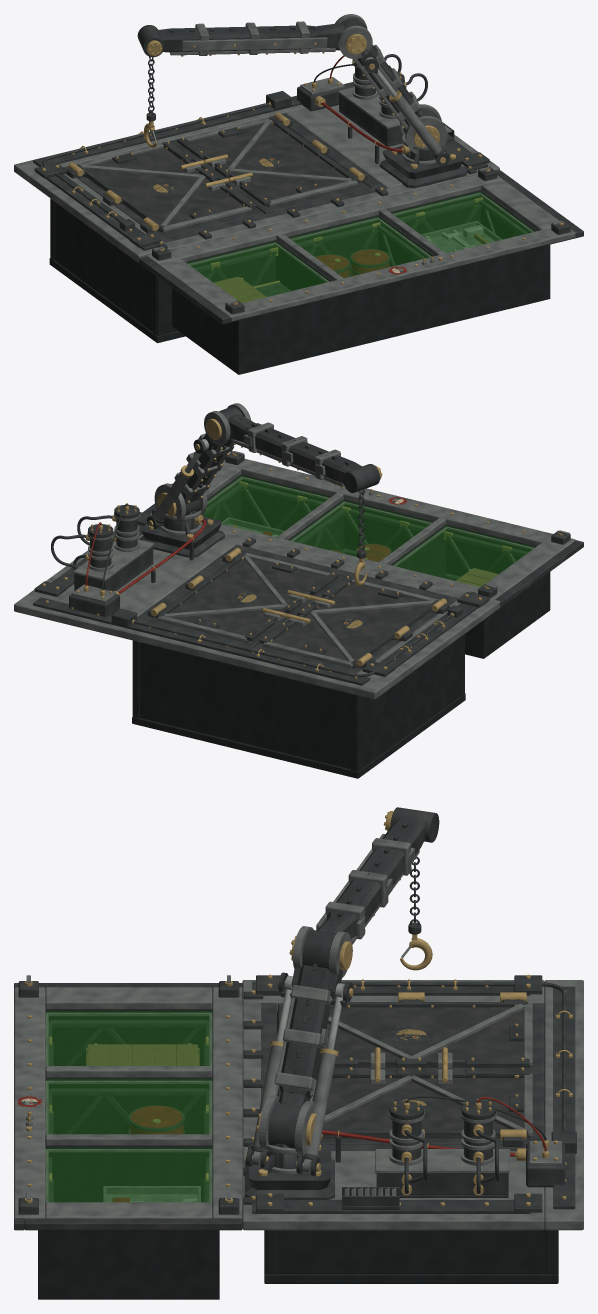
File: advanced-space-cargo-v01.glb
The picture shows the model from 3 angles, top to bottom: view 1: azimuth 30°, elevation 25°; view 2: azimuth 150°, elevation 25°; view 3: azimuth 270°, elevation 25°; orthographic projection. The views are drawn at different scales.
Parts seen in each view (by area): view 1: Cargo | front opaque well baffle, Advanced | cargo shaft left load wall, Cargo | rear grade-bearing deck rail, Cargo | front grade-bearing deck rail, Advanced | cargo door recessed panel -1, Advanced | cargo door recessed panel 1, Cargo | green transmitting viewport 1, Cargo | green transmitting viewport 0, Cargo | green transmitting viewport 2, Cargo | rear opaque well baffle, Advanced | crane service deck, Cargo | opaque compartment wall 0 (+43 smaller); view 2: Advanced | cargo shaft rear load wall, Advanced | cargo shaft left load wall, Cargo | front opaque well baffle, Advanced | cargo door recessed panel -1, Advanced | cargo door recessed panel 1, Cargo | front grade-bearing deck rail, Cargo | green transmitting viewport 0, Cargo | green transmitting viewport 1, Cargo | green transmitting viewport 2, Advanced | aft rear bearing rail, Advanced | crane service deck, Advanced | cargo door sealed shaft floor (+36 smaller); view 3: Advanced | cargo shaft right load wall, Cargo | opaque compartment wall 3, Cargo | green transmitting viewport 2, Cargo | green transmitting viewport 1, Cargo | green transmitting viewport 0, Advanced | cargo door recessed panel -1, Advanced | cargo door recessed panel 1, Cargo | opaque compartment wall 2, Cargo | rear grade-bearing deck rail, Cargo | front grade-bearing deck rail, Advanced | aft right bearing rail, Cargo | opaque compartment wall 1 (+49 smaller).
Part boxes in pixels (bbox=[...]): Cargo | front opaque well baffle: bbox=[236, 244, 550, 370]; Advanced | cargo shaft left load wall: bbox=[50, 198, 164, 335]; Cargo | rear grade-bearing deck rail: bbox=[146, 174, 502, 264]; Cargo | front grade-bearing deck rail: bbox=[219, 228, 575, 321]; Advanced | cargo door recessed panel -1: bbox=[86, 148, 251, 232]; Advanced | cargo door recessed panel 1: bbox=[190, 123, 357, 206]; Cargo | green transmitting viewport 1: bbox=[289, 216, 432, 277]; Cargo | green transmitting viewport 0: bbox=[187, 241, 330, 302]; Cargo | green transmitting viewport 2: bbox=[392, 191, 534, 253]; Cargo | rear opaque well baffle: bbox=[172, 190, 480, 323]; Advanced | crane service deck: bbox=[285, 104, 403, 188]; Cargo | opaque compartment wall 0: bbox=[174, 290, 244, 370]; Advanced | cargo shaft rear load wall: bbox=[140, 642, 362, 771]; Advanced | cargo shaft left load wall: bbox=[351, 637, 460, 771]; Cargo | front opaque well baffle: bbox=[241, 474, 550, 607]; Advanced | cargo door recessed panel -1: bbox=[263, 583, 429, 668]; Advanced | cargo door recessed panel 1: bbox=[158, 559, 325, 642]; Cargo | front grade-bearing deck rail: bbox=[222, 459, 575, 548]; Cargo | green transmitting viewport 0: bbox=[392, 525, 535, 586]; Cargo | green transmitting viewport 1: bbox=[289, 500, 432, 562]; Cargo | green transmitting viewport 2: bbox=[202, 475, 330, 536]; Advanced | aft rear bearing rail: bbox=[14, 594, 389, 699]; Advanced | crane service deck: bbox=[62, 541, 234, 616]; Advanced | cargo door sealed shaft floor: bbox=[132, 693, 465, 778]; Advanced | cargo shaft right load wall: bbox=[264, 1229, 558, 1273]; Cargo | opaque compartment wall 3: bbox=[38, 1230, 219, 1292]; Cargo | green transmitting viewport 2: bbox=[45, 1147, 212, 1202]; Cargo | green transmitting viewport 1: bbox=[45, 1079, 212, 1134]; Cargo | green transmitting viewport 0: bbox=[45, 1011, 212, 1065]; Advanced | cargo door recessed panel -1: bbox=[326, 1007, 530, 1067]; Advanced | cargo door recessed panel 1: bbox=[322, 1078, 530, 1138]; Cargo | opaque compartment wall 2: bbox=[45, 1145, 212, 1202]; Cargo | rear grade-bearing deck rail: bbox=[212, 987, 242, 1218]; Cargo | front grade-bearing deck rail: bbox=[14, 987, 45, 1218]; Advanced | aft right bearing rail: bbox=[242, 1198, 544, 1230]; Cargo | opaque compartment wall 1: bbox=[45, 1077, 212, 1134].
Bounding box in the file's own units: 4.92 × 3.38 × 4.92.
Materials: 71 (23 with a texture image).
